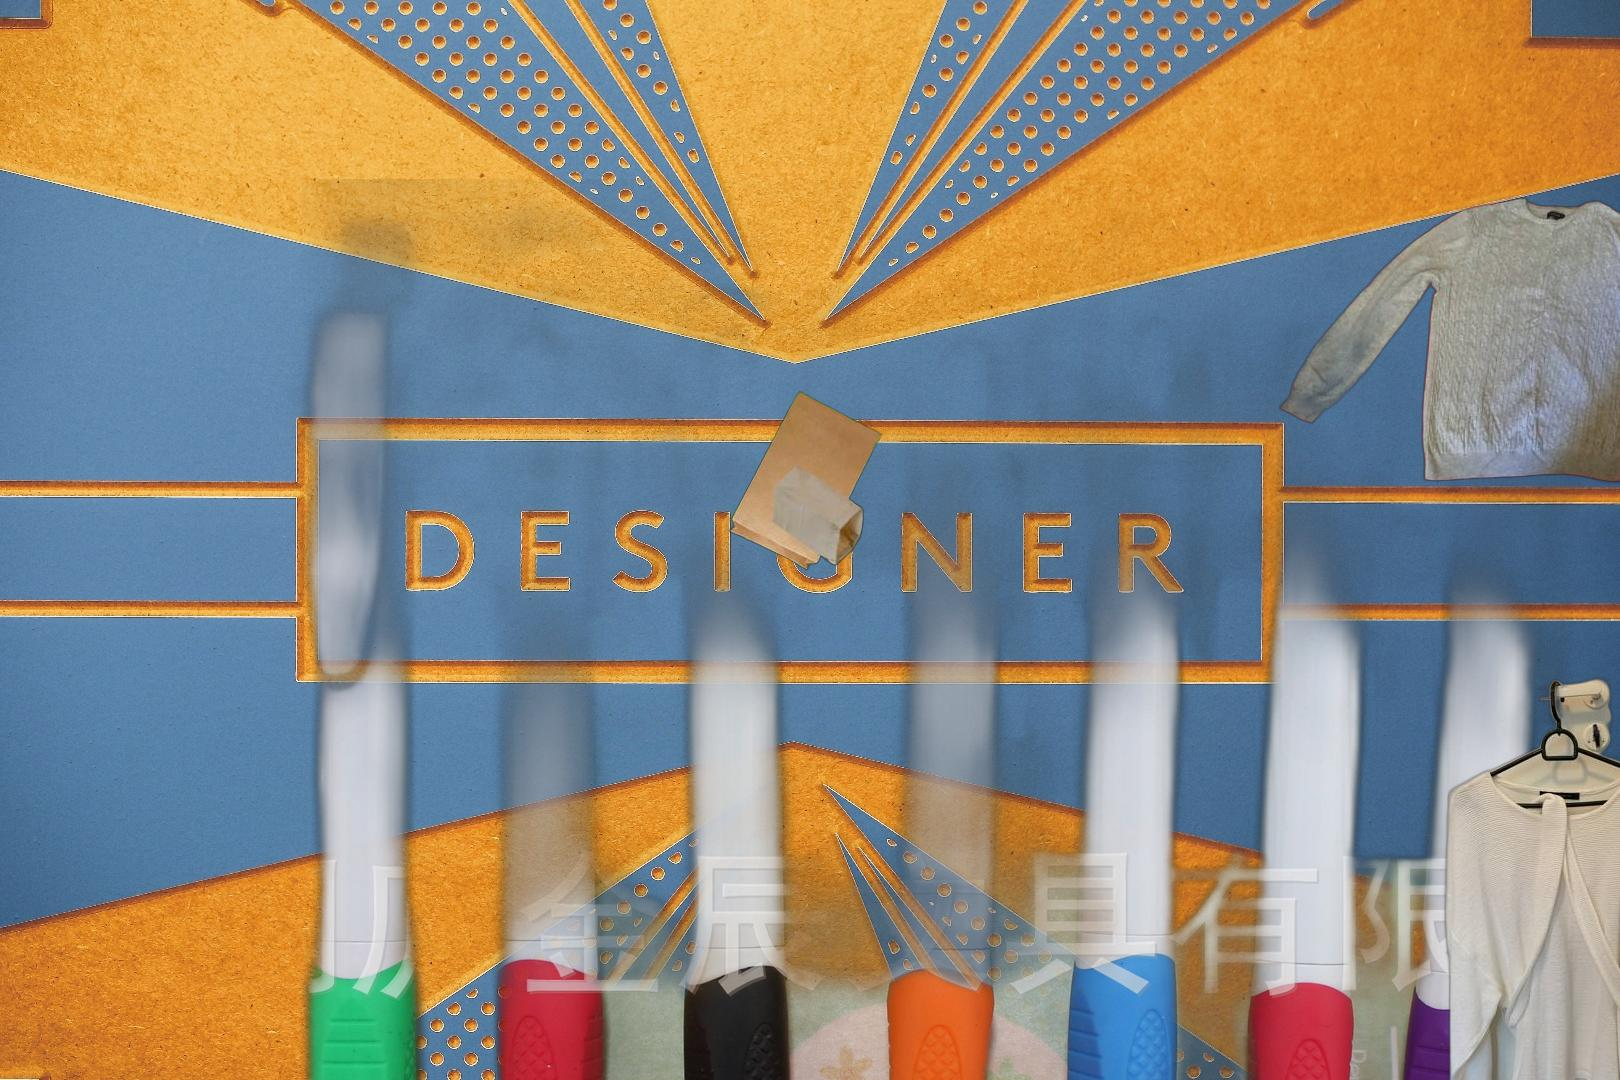clothes: (1275, 195, 1620, 509), (1442, 674, 1620, 1080)
paper-bag: (726, 389, 886, 571)
penholder: (196, 180, 1620, 1080)
